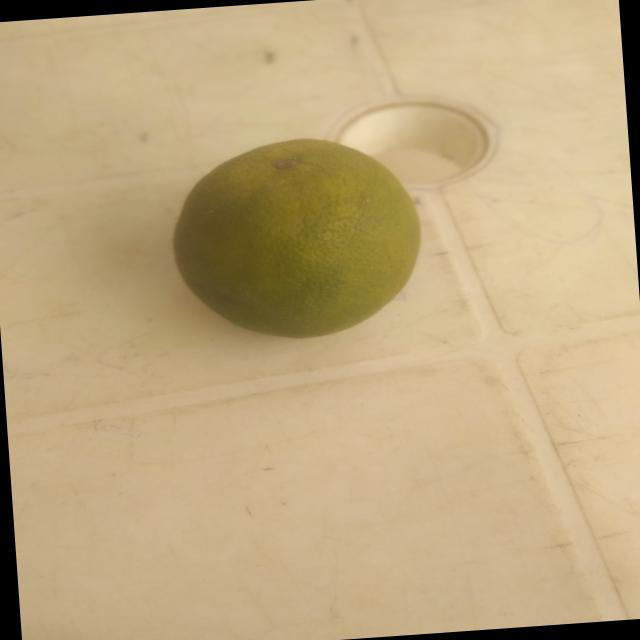Unripe: (157, 123, 448, 350)
